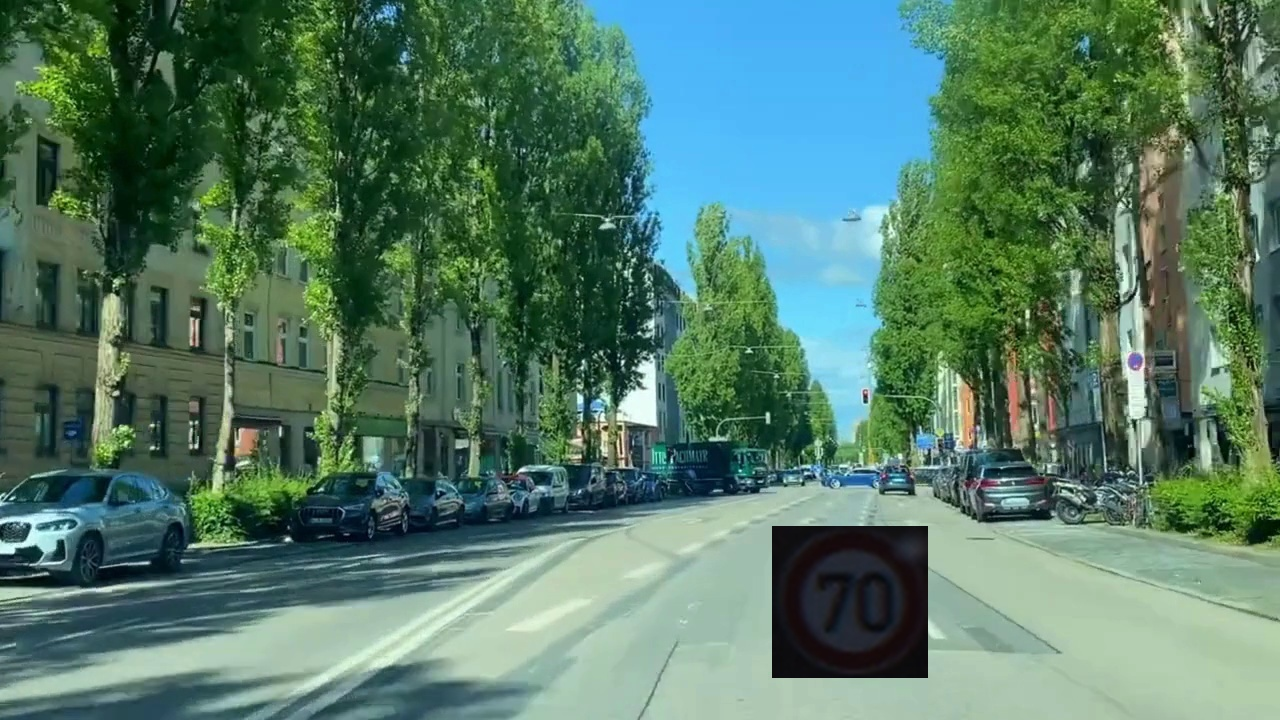Speed 70: (772, 526, 928, 678)
